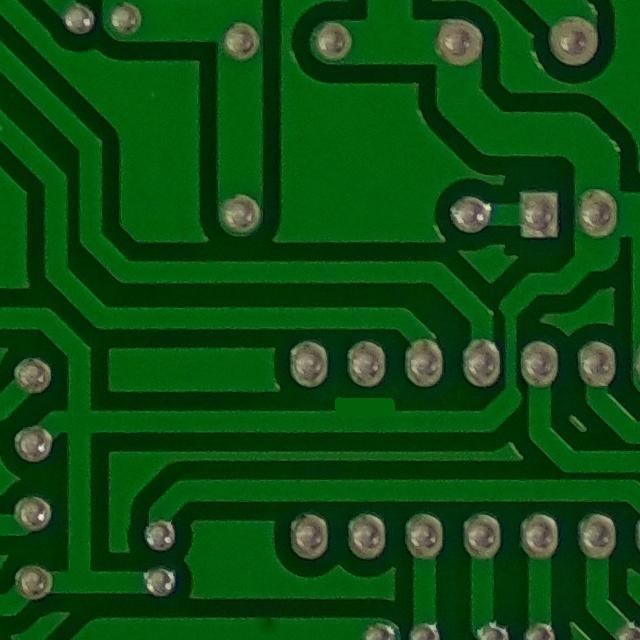spur: (327, 385, 405, 426)
